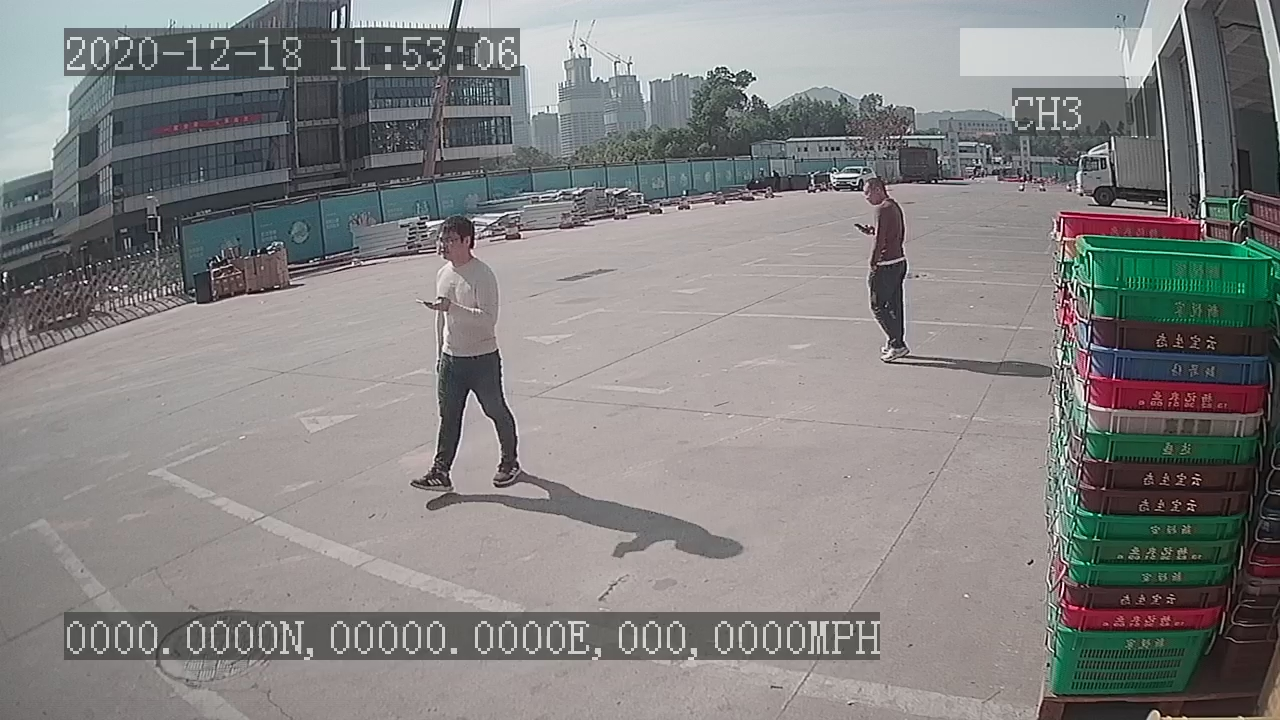person: (397, 210, 524, 502), (851, 174, 920, 367)
